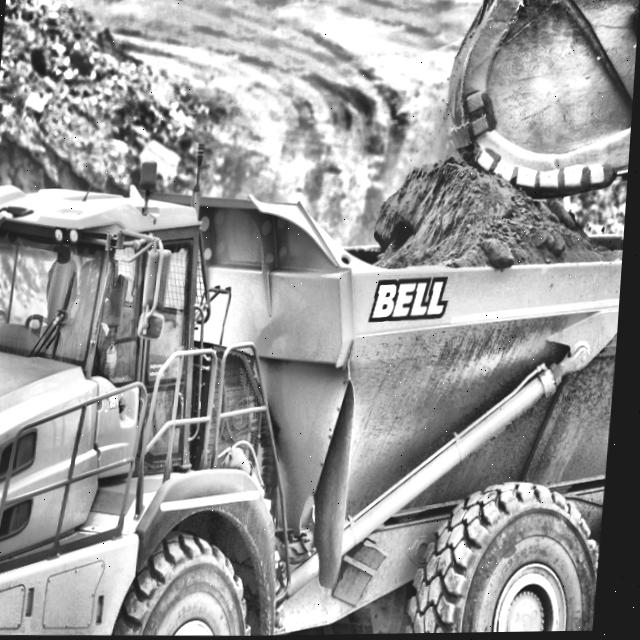dump_truck: (0, 141, 632, 640)
